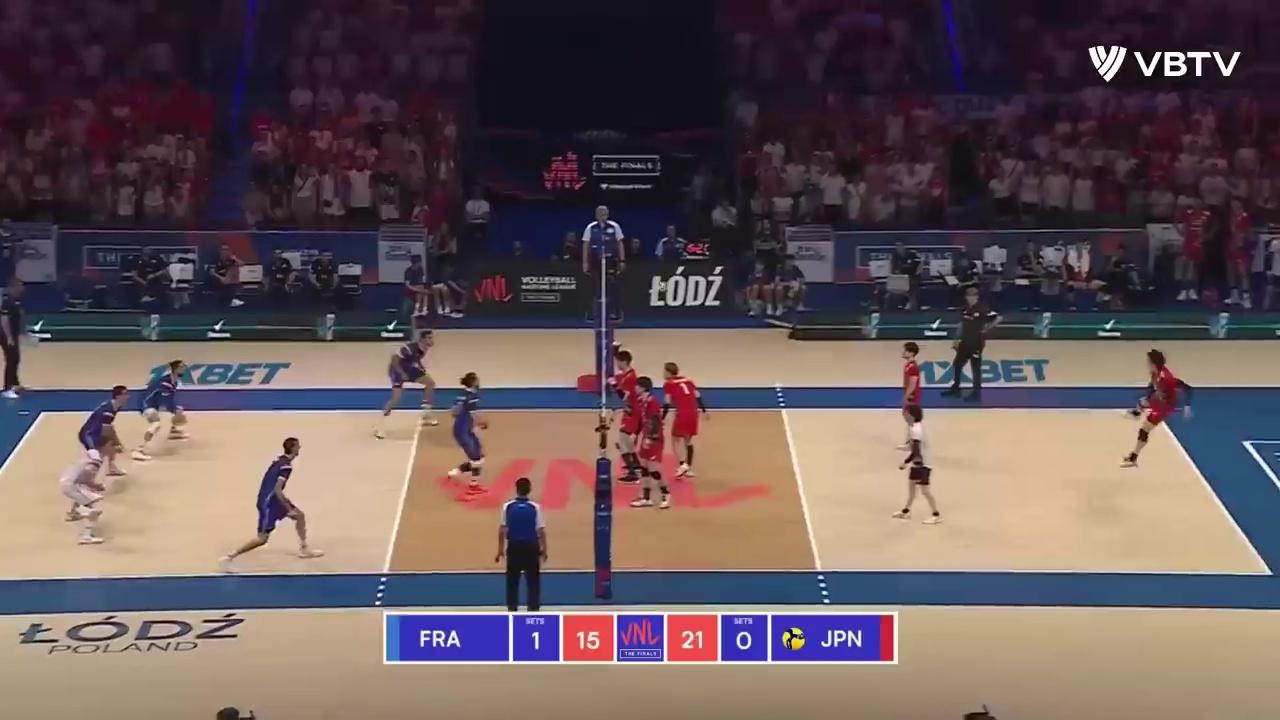ball: (659, 283, 668, 292)
